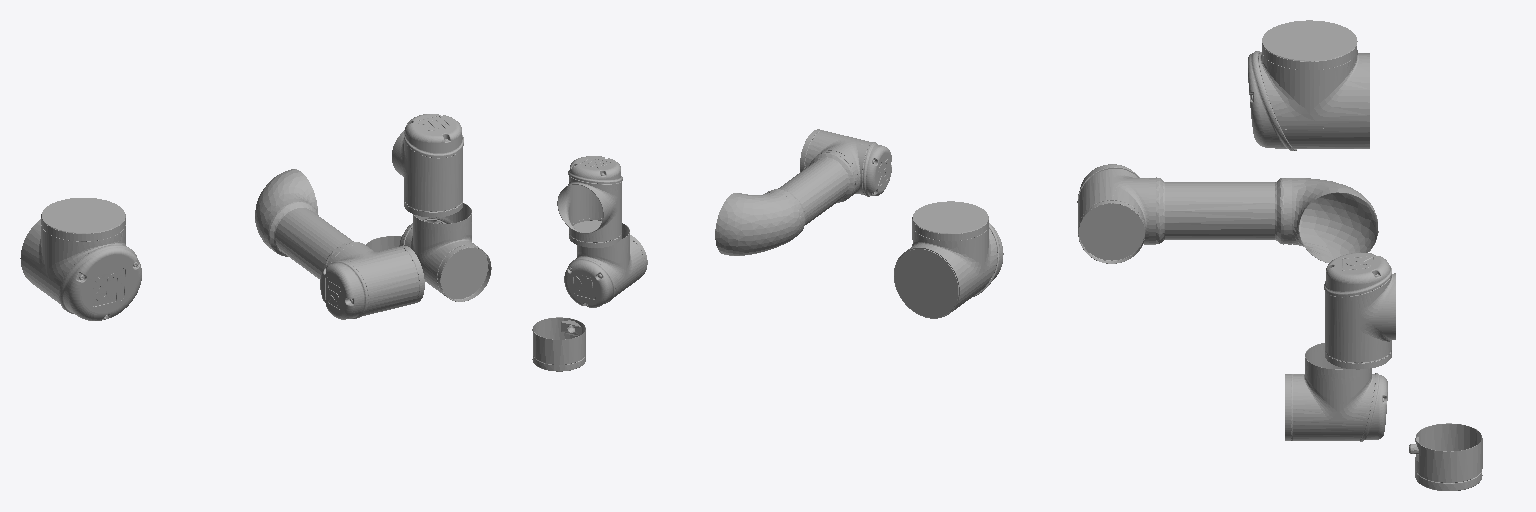
The robot description file, URDF, robot "UniversalRobots_UR3e":
<?xml version="1.0" ?>
<robot name="UniversalRobots_UR3e" xmlns:xacro="http://ros.org/wiki/xacro">
  <link name="base_link">
    <visual>
      <geometry>
        <mesh filename="package://UR3e/visual/base.dae"/>
      </geometry>
      <material name="LightGrey">
        <color rgba="0.7 0.7 0.7 1.0"/>
      </material>
    </visual>
    <collision>
      <geometry>
        <mesh filename="package://UR3e/collision/base.stl"/>
      </geometry>
    </collision>
    <inertial>
      <mass value="2.0"/>
      <origin rpy="0 0 0" xyz="0.0 0.0 0.0"/>
      <inertia ixx="0.0030531654454" ixy="0.0" ixz="0.0" iyy="0.0030531654454" iyz="0.0" izz="0.005625"/>
    </inertial>
  </link>
  <joint name="Joint1" type="revolute">
    <parent link="base_link"/>
    <child link="shoulder_link"/>
    <origin rpy="0.0 0.0 0.0" xyz="0.0 0.0 0.152"/>
    <axis xyz="0 0 1"/>
    <limit effort="330.0" lower="-6.28318530718" upper="6.28318530718" velocity="3.14"/>
    <dynamics damping="0.0" friction="0.0"/>
  </joint>
  <link name="shoulder_link">
    <visual>
      <geometry>
        <mesh filename="package://UR3e/visual/shoulder.dae"/>
      </geometry>
      <material name="LightGrey">
        <color rgba="0.7 0.7 0.7 1.0"/>
      </material>
    </visual>
    <collision>
      <geometry>
        <mesh filename="package://UR3e/collision/shoulder.stl"/>
      </geometry>
    </collision>
    <inertial>
      <mass value="2.0"/>
      <origin rpy="0 0 0" xyz="0.0 0.0 0.0"/>
      <inertia ixx="0.0080931634294" ixy="0.0" ixz="0.0" iyy="0.0080931634294" iyz="0.0" izz="0.005625"/>
    </inertial>
  </link>
  <joint name="Joint2" type="revolute">
    <parent link="shoulder_link"/>
    <child link="upper_arm_link"/>
    <origin rpy="0.0 1.57079632679 0.0" xyz="0.0 0.12 0.0"/>
    <axis xyz="0 1 0"/>
    <limit effort="330.0" lower="-6.28318530718" upper="6.28318530718" velocity="3.14"/>
    <dynamics damping="0.0" friction="0.0"/>
  </joint>
  <link name="upper_arm_link">
    <visual>
      <geometry>
        <mesh filename="package://UR3e/visual/upperarm.dae"/>
      </geometry>
      <material name="LightGrey">
        <color rgba="0.7 0.7 0.7 1.0"/>
      </material>
    </visual>
    <collision>
      <geometry>
        <mesh filename="package://UR3e/collision/upperarm.stl"/>
      </geometry>
    </collision>
    <inertial>
      <mass value="3.42"/>
      <origin rpy="0 0 0" xyz="0.0 0.0 0.122"/>
      <inertia ixx="0.0217771262891" ixy="0.0" ixz="0.0" iyy="0.0217771262891" iyz="0.0" izz="0.00961875"/>
    </inertial>
  </link>
  <joint name="Joint3" type="revolute">
    <parent link="upper_arm_link"/>
    <child link="forearm_link"/>
    <origin rpy="0.0 0.0 0.0" xyz="0.0 -0.093 0.244"/>
    <axis xyz="0 1 0"/>
    <limit effort="150.0" lower="-3.14159265359" upper="3.14159265359" velocity="3.14"/>
    <dynamics damping="0.0" friction="0.0"/>
  </joint>
  <link name="forearm_link">
    <visual>
      <geometry>
        <mesh filename="package://UR3e/visual/forearm.dae"/>
      </geometry>
      <material name="LightGrey">
        <color rgba="0.7 0.7 0.7 1.0"/>
      </material>
    </visual>
    <collision>
      <geometry>
        <mesh filename="package://UR3e/collision/forearm.stl"/>
      </geometry>
    </collision>
    <inertial>
      <mass value="1.26"/>
      <origin rpy="0 0 0" xyz="0.0 0.0 0.1065"/>
      <inertia ixx="0.00653561738575" ixy="0.0" ixz="0.0" iyy="0.00653561738575" iyz="0.0" izz="0.00354375"/>
    </inertial>
  </link>
  <joint name="Joint4" type="revolute">
    <parent link="forearm_link"/>
    <child link="wrist_1_link"/>
    <origin rpy="0.0 1.57079632679 0.0" xyz="0.0 0.0 0.213"/>
    <axis xyz="0 1 0"/>
    <limit effort="54.0" lower="-6.28318530718" upper="6.28318530718" velocity="6.28"/>
    <dynamics damping="0.0" friction="0.0"/>
  </joint>
  <link name="wrist_1_link">
    <visual>
      <geometry>
        <mesh filename="package://UR3e/visual/wrist1.dae"/>
      </geometry>
      <material name="LightGrey">
        <color rgba="0.7 0.7 0.7 1.0"/>
      </material>
    </visual>
    <collision>
      <geometry>
        <mesh filename="package://UR3e/collision/wrist1.stl"/>
      </geometry>
    </collision>
    <inertial>
      <mass value="0.8"/>
      <origin rpy="0 0 0" xyz="0.0 0.104 0.0"/>
      <inertia ixx="0.002084999166" ixy="0.0" ixz="0.0" iyy="0.002084999166" iyz="0.0" izz="0.00225"/>
    </inertial>
  </link>
  <joint name="Joint5" type="revolute">
    <parent link="wrist_1_link"/>
    <child link="wrist_2_link"/>
    <origin rpy="0.0 0.0 0.0" xyz="0.0 0.104 0.0"/>
    <axis xyz="0 0 1"/>
    <limit effort="54.0" lower="-6.28318530718" upper="6.28318530718" velocity="6.28"/>
    <dynamics damping="0.0" friction="0.0"/>
  </joint>
  <link name="wrist_2_link">
    <visual>
      <geometry>
        <mesh filename="package://UR3e/visual/wrist2.dae"/>
      </geometry>
      <material name="LightGrey">
        <color rgba="0.7 0.7 0.7 1.0"/>
      </material>
    </visual>
    <collision>
      <geometry>
        <mesh filename="package://UR3e/collision/wrist2.stl"/>
      </geometry>
    </collision>
    <inertial>
      <mass value="0.8"/>
      <origin rpy="0 0 0" xyz="0.0 0.0 0.085"/>
      <inertia ixx="0.002084999166" ixy="0.0" ixz="0.0" iyy="0.002084999166" iyz="0.0" izz="0.00225"/>
    </inertial>
  </link>
  <joint name="Joint6" type="revolute">
    <parent link="wrist_2_link"/>
    <child link="wrist_3_link"/>
    <origin rpy="0.0 0.0 0.0" xyz="0.0 0.0 0.085"/>
    <axis xyz="0 1 0"/>
    <limit effort="54.0" lower="-6.28318530718" upper="6.28318530718" velocity="6.28"/>
    <dynamics damping="0.0" friction="0.0"/>
  </joint>
  <link name="wrist_3_link">
    <visual>
      <geometry>
        <mesh filename="package://UR3e/visual/wrist3.dae"/>
      </geometry>
      <material name="LightGrey">
        <color rgba="0.7 0.7 0.7 1.0"/>
      </material>
    </visual>
    <collision>
      <geometry>
        <mesh filename="package://UR3e/collision/wrist3.stl"/>
      </geometry>
    </collision>
    <inertial>
      <mass value="0.35"/>
      <origin rpy="1.57079632679 0 0" xyz="0.0 0.071 0.0"/>
      <inertia ixx="0.00014104994358" ixy="0.0" ixz="0.0" iyy="0.00014104994358" iyz="0.0" izz="0.0001792"/>
    </inertial>
  </link>
  <joint name="JointEffector" type="fixed">
    <parent link="wrist_3_link"/>
    <child link="ee_link"/>
    <origin rpy="0.0 0.0 1.57079632679" xyz="0.0 0.092 0.0"/>
  </joint>
    <link name="ee_link">
    <collision>
      <geometry>
        <box size="0.01 0.01 0.01"/>
      </geometry>
      <origin rpy="0 0 0" xyz="-0.01 0 0"/>
    </collision>
  </link>
  <chain_pair>
    <base name="Joint1"/>
    <end name="JointEffector"/>
  </chain_pair>
</robot>

--- Facts derived from the render (not from the file) ---
Views: 3 orthographic renders of the robot side by side, from view 1: azimuth 30°, elevation 25°; view 2: azimuth 150°, elevation 25°; view 3: azimuth 270°, elevation 25°.
Model UniversalRobots_UR3e with 8 links and 7 joints (6 revolute, 1 fixed), rooted at base_link, posed all joints at 0.
Visible links, largest first — view 1: forearm_link, shoulder_link, wrist_2_link, wrist_1_link; view 2: forearm_link, shoulder_link, wrist_2_link, wrist_1_link, wrist_3_link; view 3: forearm_link, shoulder_link, wrist_1_link, wrist_2_link, wrist_3_link.
Boxes of the visible links, x1,y1,x2,y2 form: forearm_link: (255, 169, 424, 319); shoulder_link: (20, 198, 141, 320); wrist_2_link: (392, 114, 463, 217); wrist_1_link: (399, 203, 491, 301); forearm_link: (715, 129, 891, 255); shoulder_link: (894, 201, 1003, 318); wrist_2_link: (557, 156, 622, 247); wrist_1_link: (564, 223, 647, 307); wrist_3_link: (532, 317, 585, 371); forearm_link: (1077, 164, 1378, 263); shoulder_link: (1248, 20, 1369, 150); wrist_1_link: (1285, 343, 1387, 441); wrist_2_link: (1324, 253, 1395, 369); wrist_3_link: (1409, 423, 1482, 490).
Bounding box of the posed robot: 0.5362 × 0.3806 × 0.2402 m (x, y, z).
7 mesh visuals loaded from 7 distinct referenced files (7 Collada DAE).